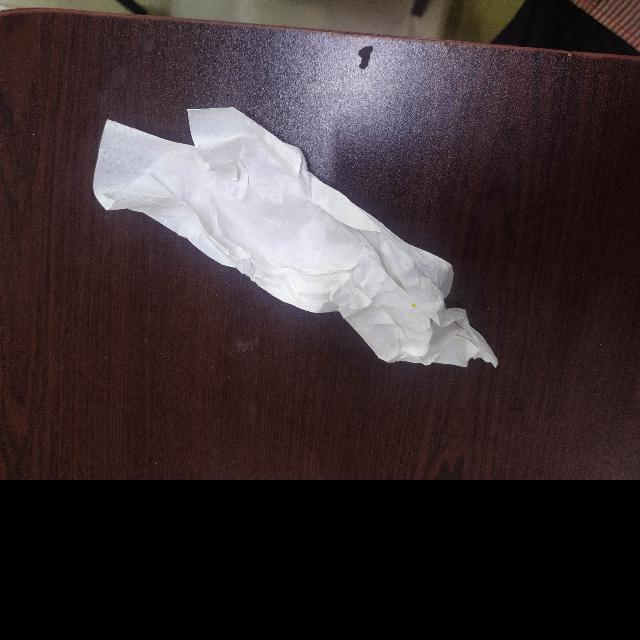kitchen paper: (90, 90, 502, 388)
